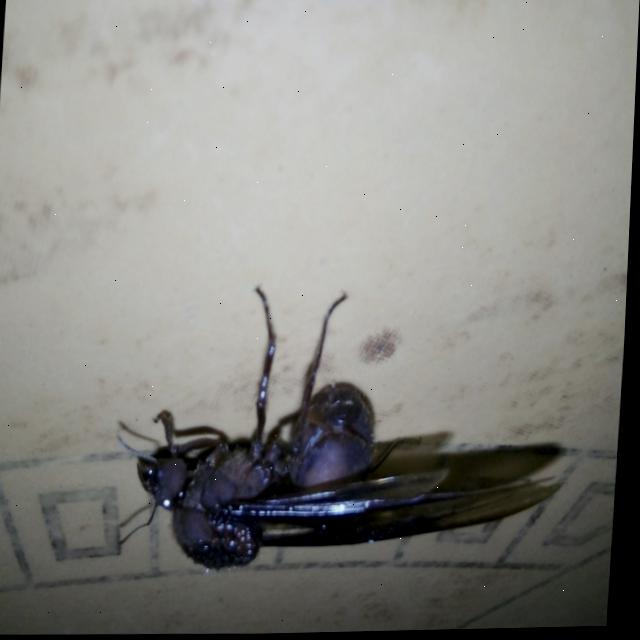Alive-Female-Alate: (113, 280, 580, 581)
